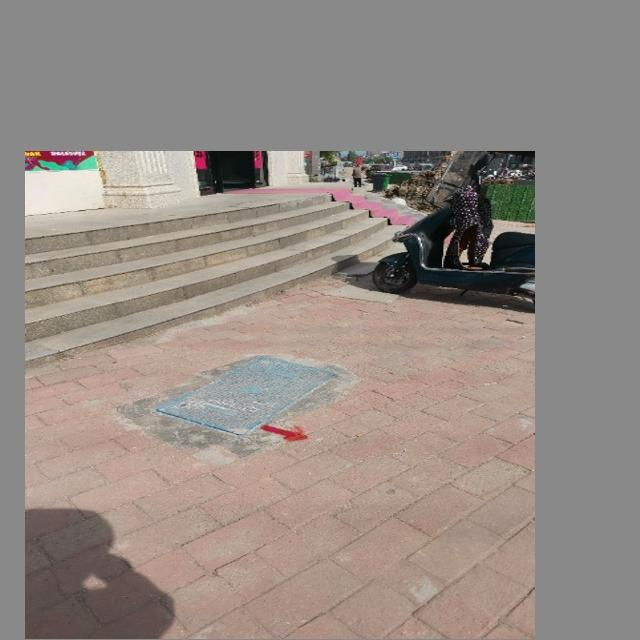good: (152, 355, 336, 435)
